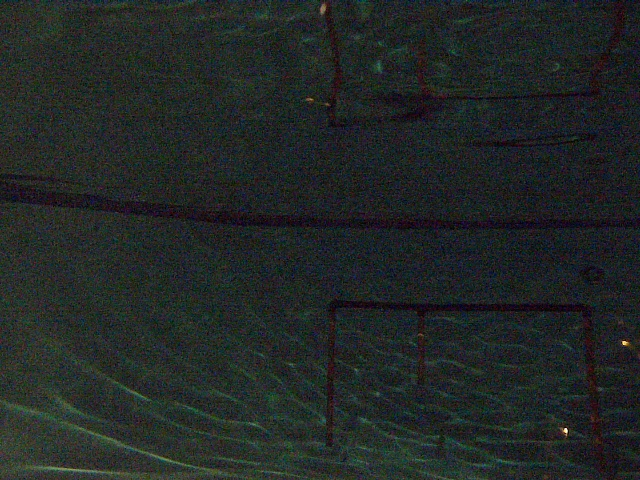Gate: (580, 310, 604, 443), (324, 309, 337, 444), (416, 311, 428, 385)
